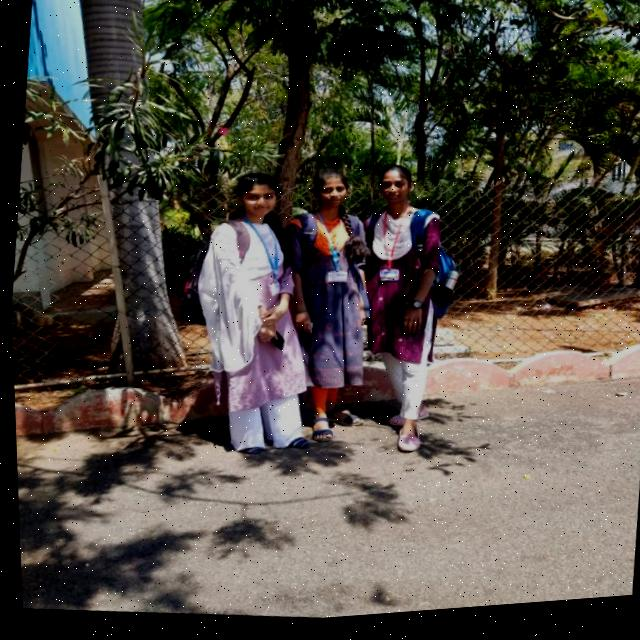id_card: (241, 220, 289, 306), (305, 225, 351, 300)
